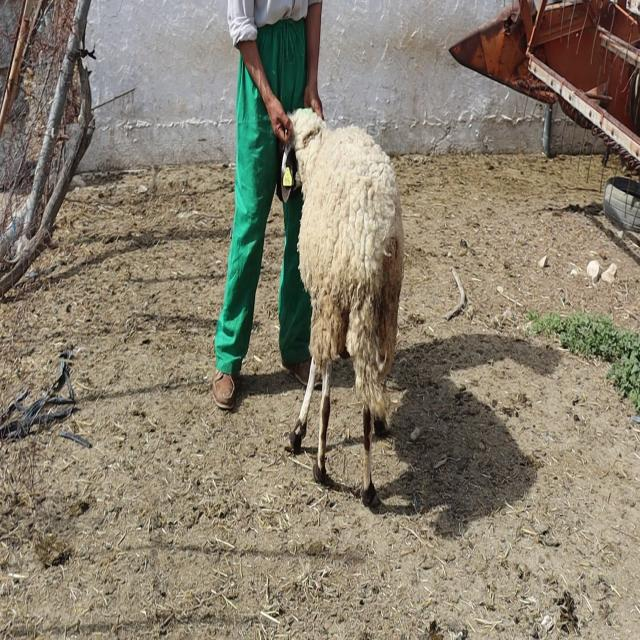Score_2: (278, 108, 404, 506)
